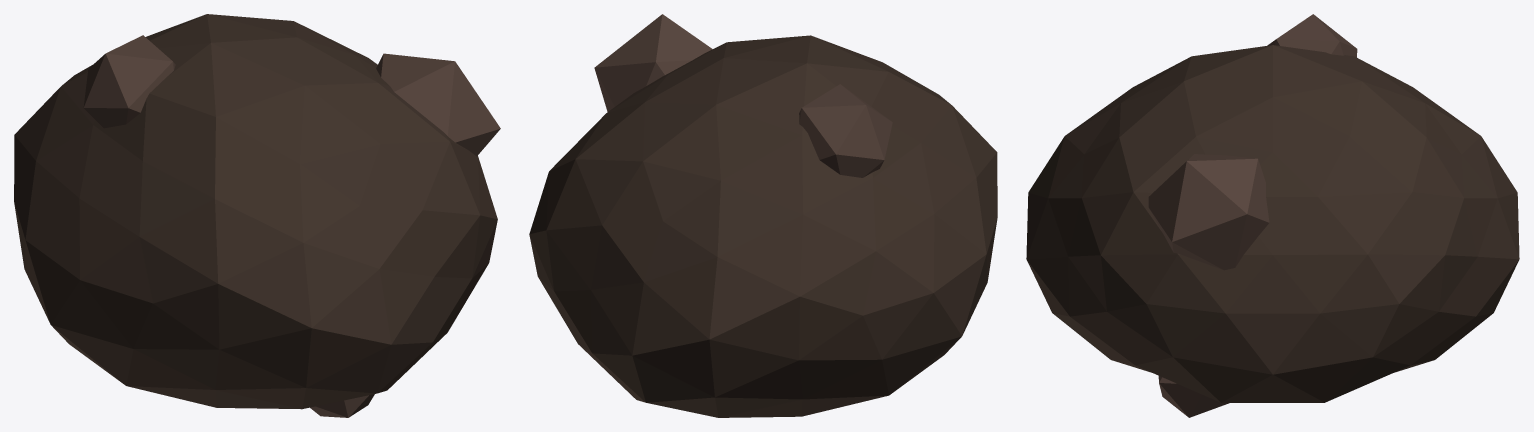
Rendered from meteor_chunk.glb.
3 renders of one model, left to right at view 1: azimuth 30°, elevation 25°; view 2: azimuth 150°, elevation 25°; view 3: azimuth 270°, elevation 25°, orthographic. The views are drawn at different scales.
Parts seen in each view (by area): view 1: MeteorRock, MeteorChunk; view 2: MeteorRock, MeteorChunk; view 3: MeteorRock, MeteorChunk.
Boxes of the visible parts, box(x1,y1,x2,y2) form: MeteorRock: box(14, 14, 497, 409); MeteorChunk: box(83, 35, 500, 417); MeteorRock: box(529, 35, 997, 417); MeteorChunk: box(594, 14, 892, 177); MeteorRock: box(1026, 45, 1519, 402); MeteorChunk: box(1148, 14, 1357, 417).
Size of the model in its own units: 1.11 by 0.9444 by 1.28.
